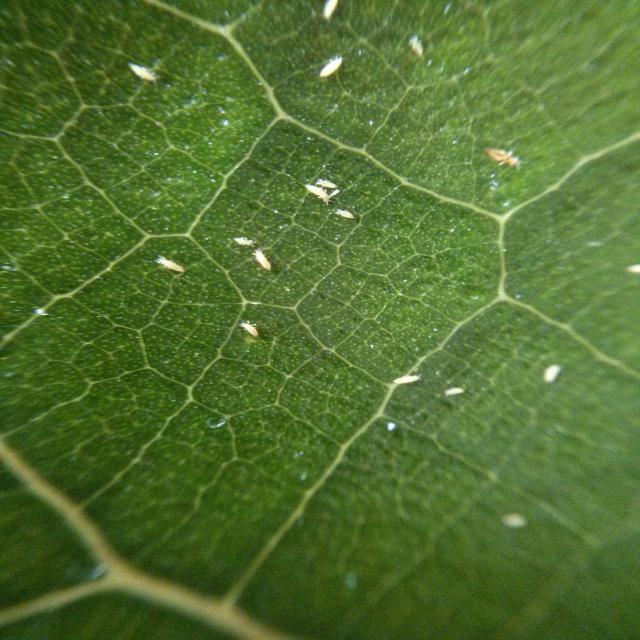Thrips: (471, 125, 540, 180), (437, 364, 487, 424), (313, 46, 368, 98), (226, 313, 281, 360), (484, 493, 539, 539), (528, 356, 594, 393), (329, 190, 379, 238), (143, 245, 196, 287), (294, 1, 363, 33), (122, 48, 178, 87), (214, 219, 263, 260), (293, 168, 344, 207), (240, 246, 289, 285), (390, 29, 436, 70), (382, 360, 430, 394)
